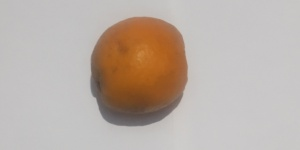BAD: (90, 15, 189, 111)
